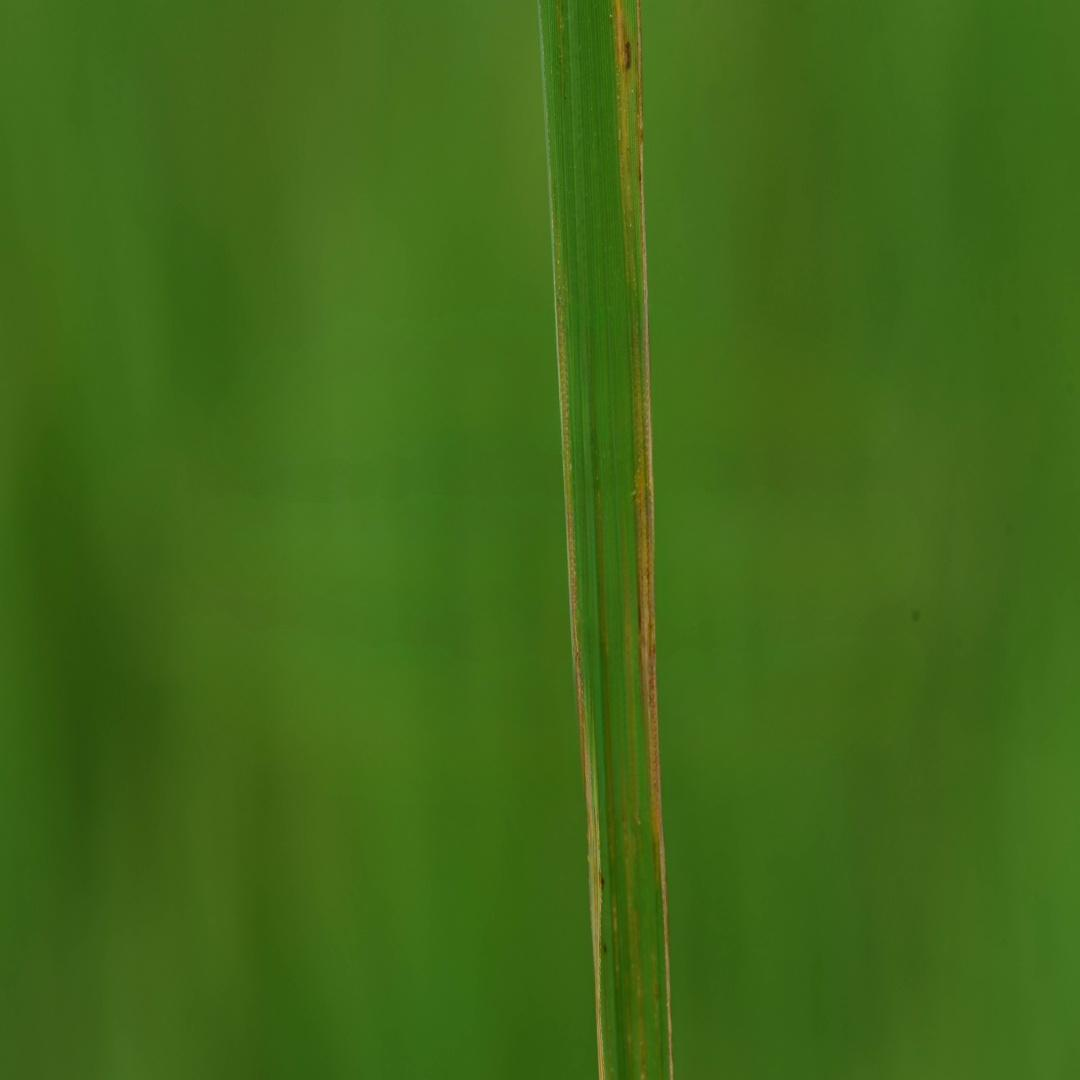BLS: (633, 0, 674, 1079), (557, 228, 605, 1079), (593, 494, 621, 1056), (620, 776, 647, 1079), (613, 0, 635, 297), (623, 528, 637, 799)
